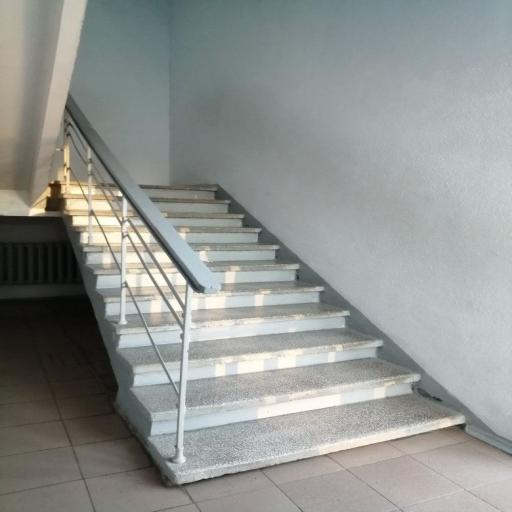sofa: (62, 184, 464, 482)
